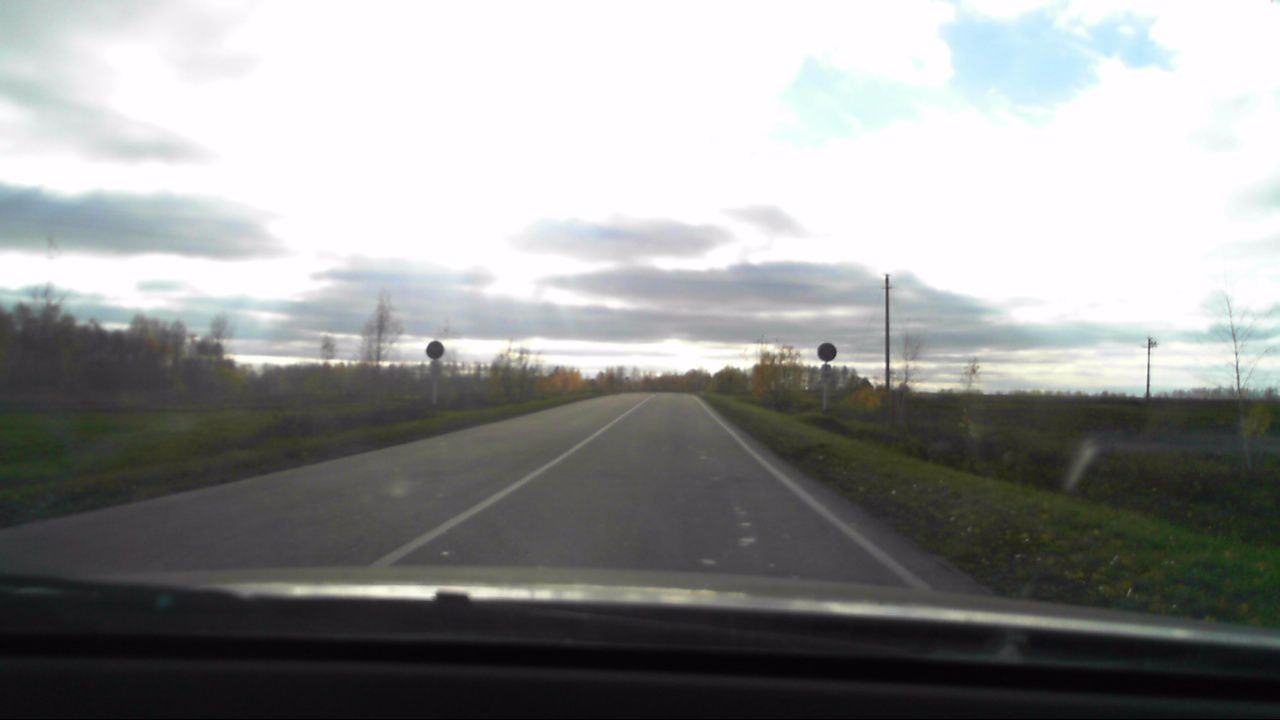No Parking: (817, 340, 838, 364)
